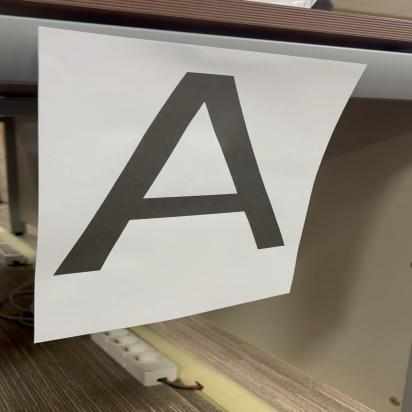seat: (49, 53, 297, 290)
